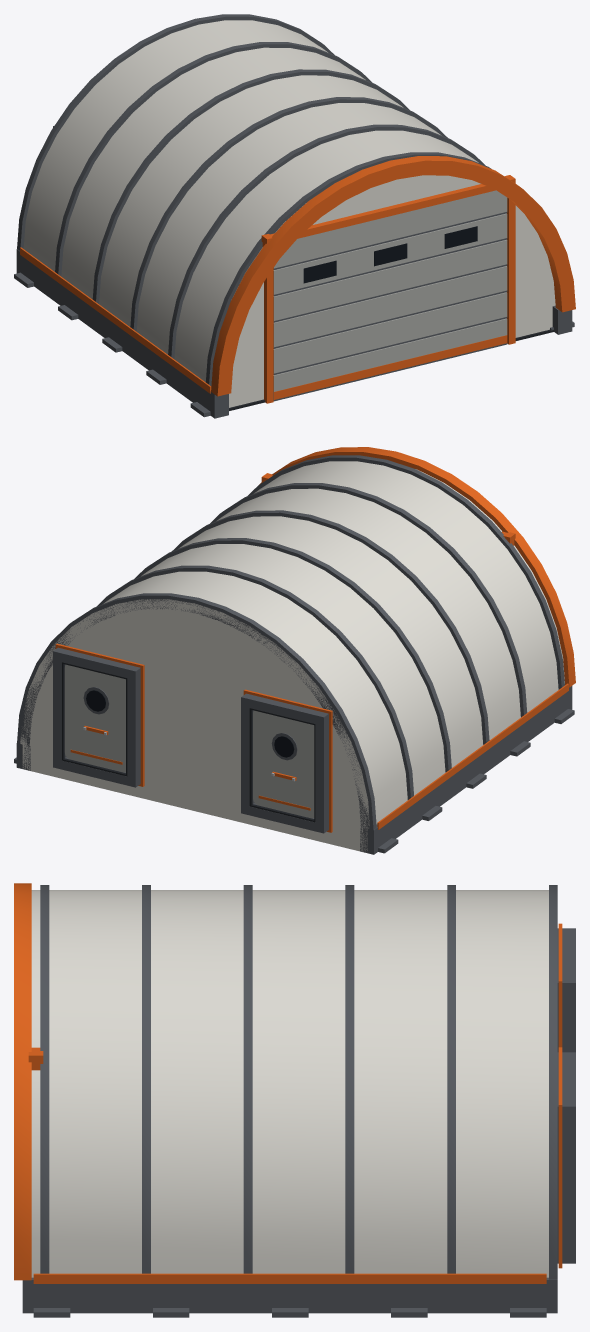
Rendered from garage.glb.
The picture shows the model from 3 angles, top to bottom: view 1: azimuth 30°, elevation 25°; view 2: azimuth 150°, elevation 25°; view 3: azimuth 270°, elevation 25°; orthographic projection. The views are drawn at different scales.
Parts seen in each view (by area): view 1: body, door; view 2: body, hatch_s, hatch_s2; view 3: body.
Part boxes in pixels (box(x1,y1,x2,y2)): body: box(14, 14, 575, 418); door: box(273, 190, 507, 401); body: box(14, 447, 575, 854); hatch_s: box(253, 710, 314, 818); hatch_s2: box(64, 664, 125, 772); body: box(14, 883, 575, 1317).
Bounding box in the file's own units: 7.88 × 4.31 × 7.67.
